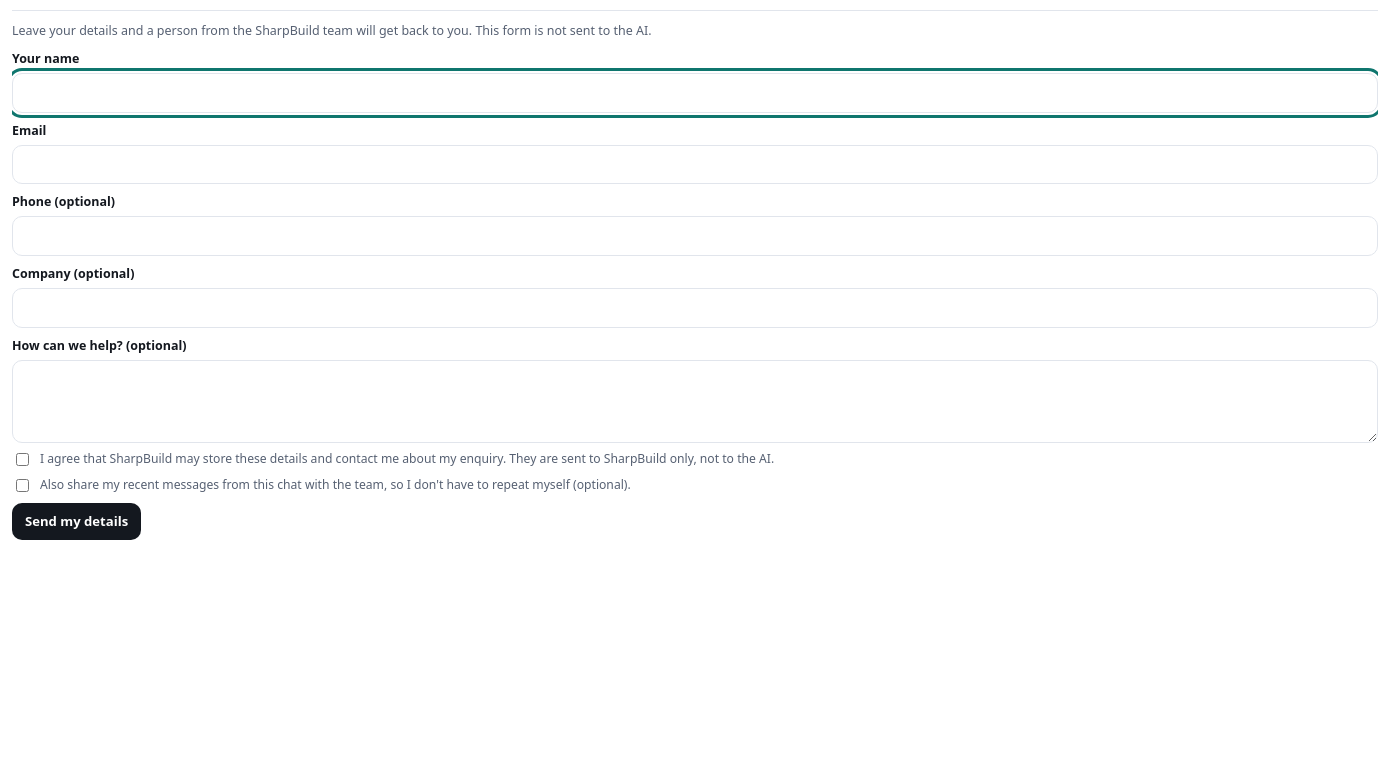
Test: LeadForm in handoff mode › ticking only the share box is not consent to store the details
The image size is (1390, 768).
Type "Ali" into the field labelled "Your name" at (695, 93), box top-left (12, 73), bottom-right (1378, 113)
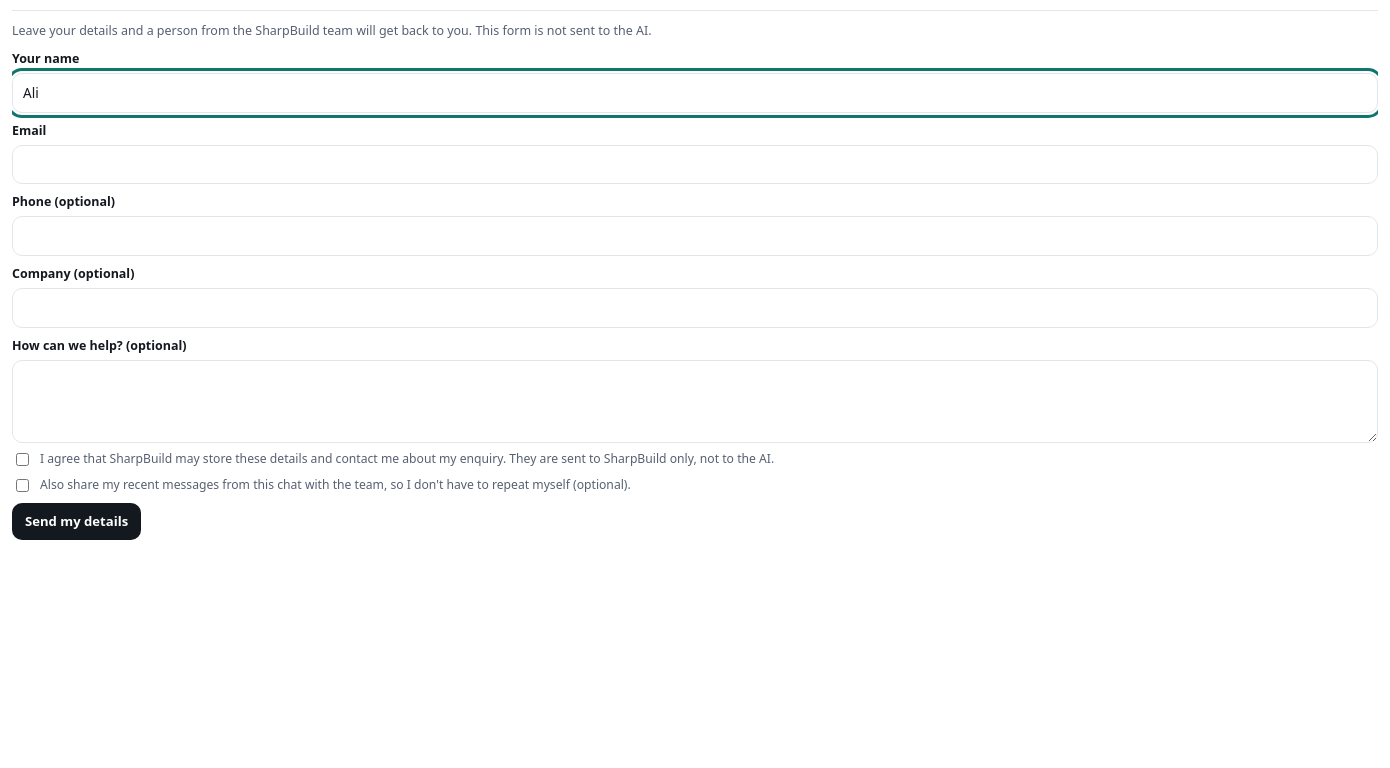
Type "ali@example.com" into the field labelled "Email" at (695, 165), box top-left (12, 145), bottom-right (1378, 184)
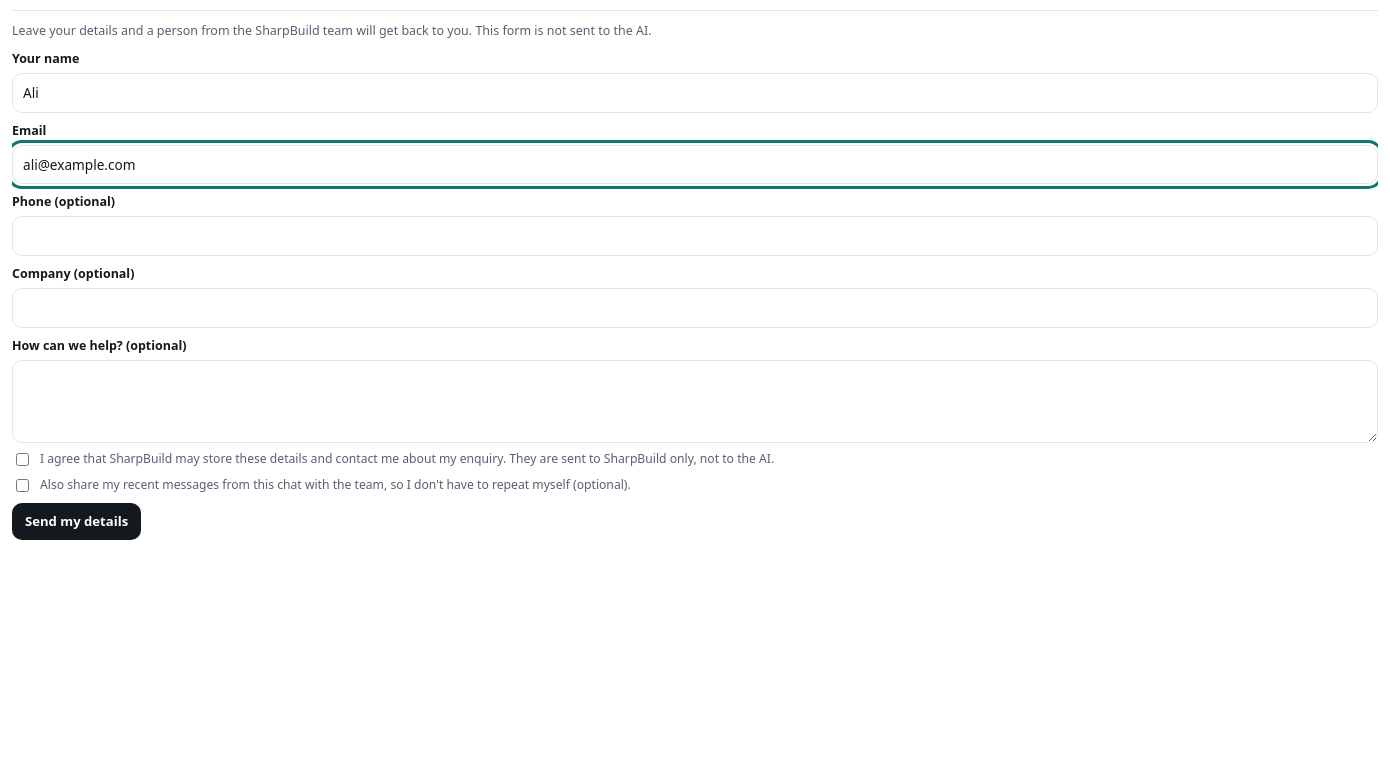
Click the checkbox labelled "share my recent messages" at (22, 486), box top-left (16, 479), bottom-right (29, 492)
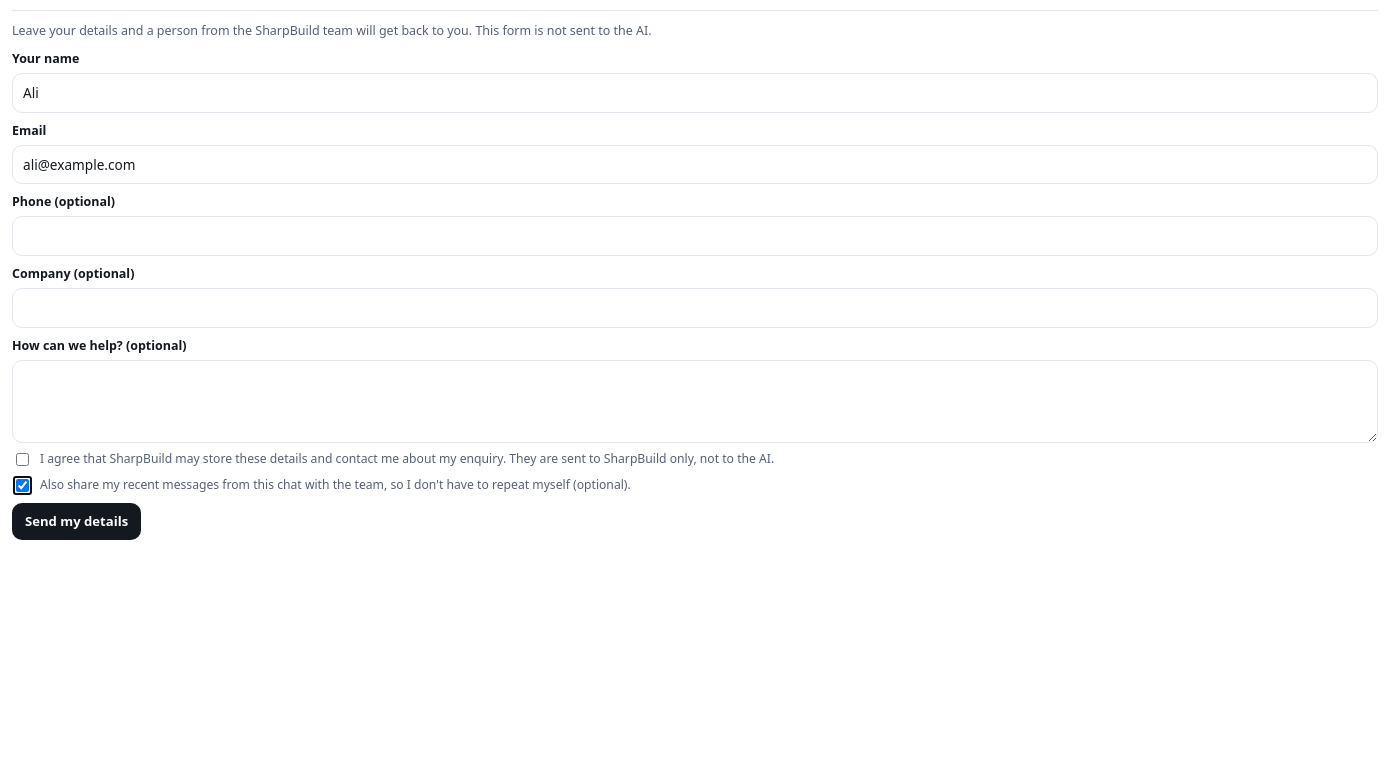
Click the button "Send my details" at (77, 522), box top-left (12, 503), bottom-right (141, 540)
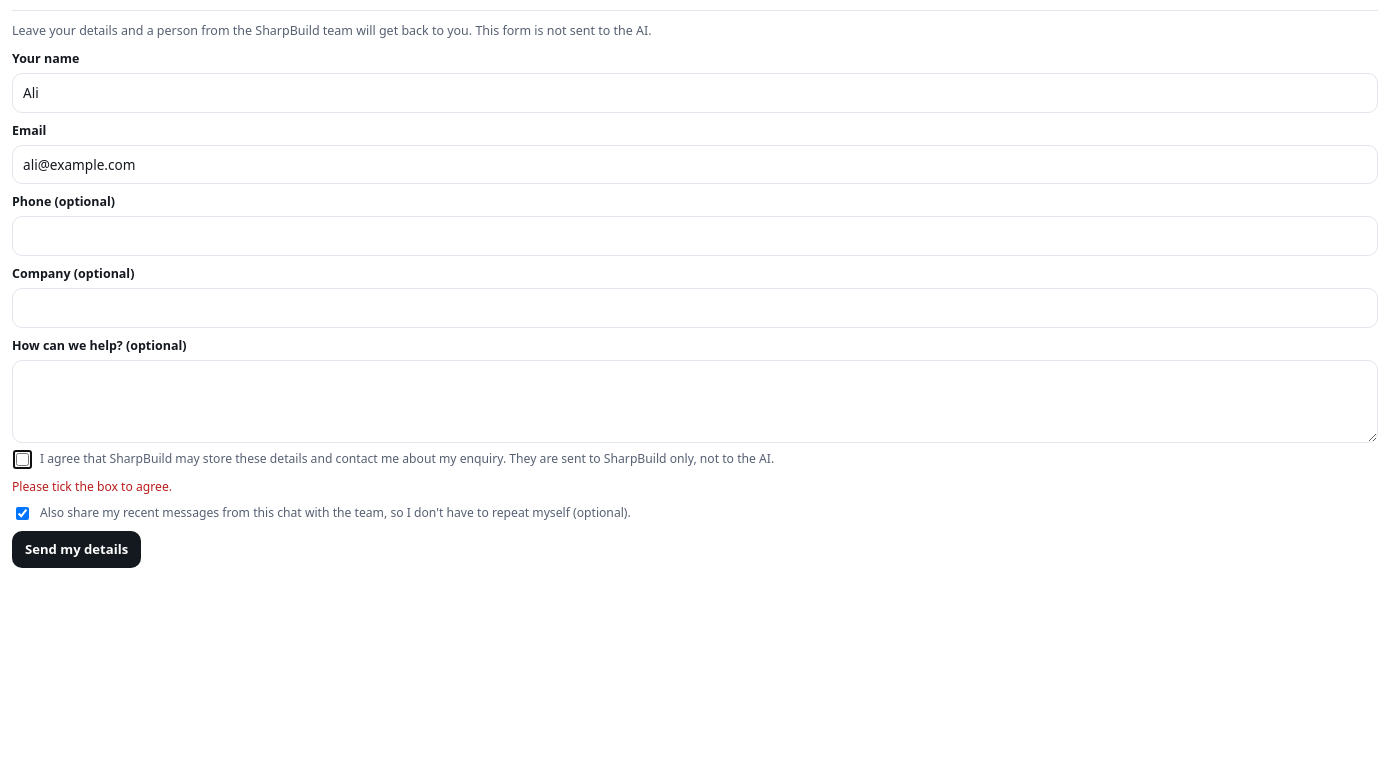
Expected: the text "Please tick the box to agree." is shown, top-left (12, 478), bottom-right (172, 495)
